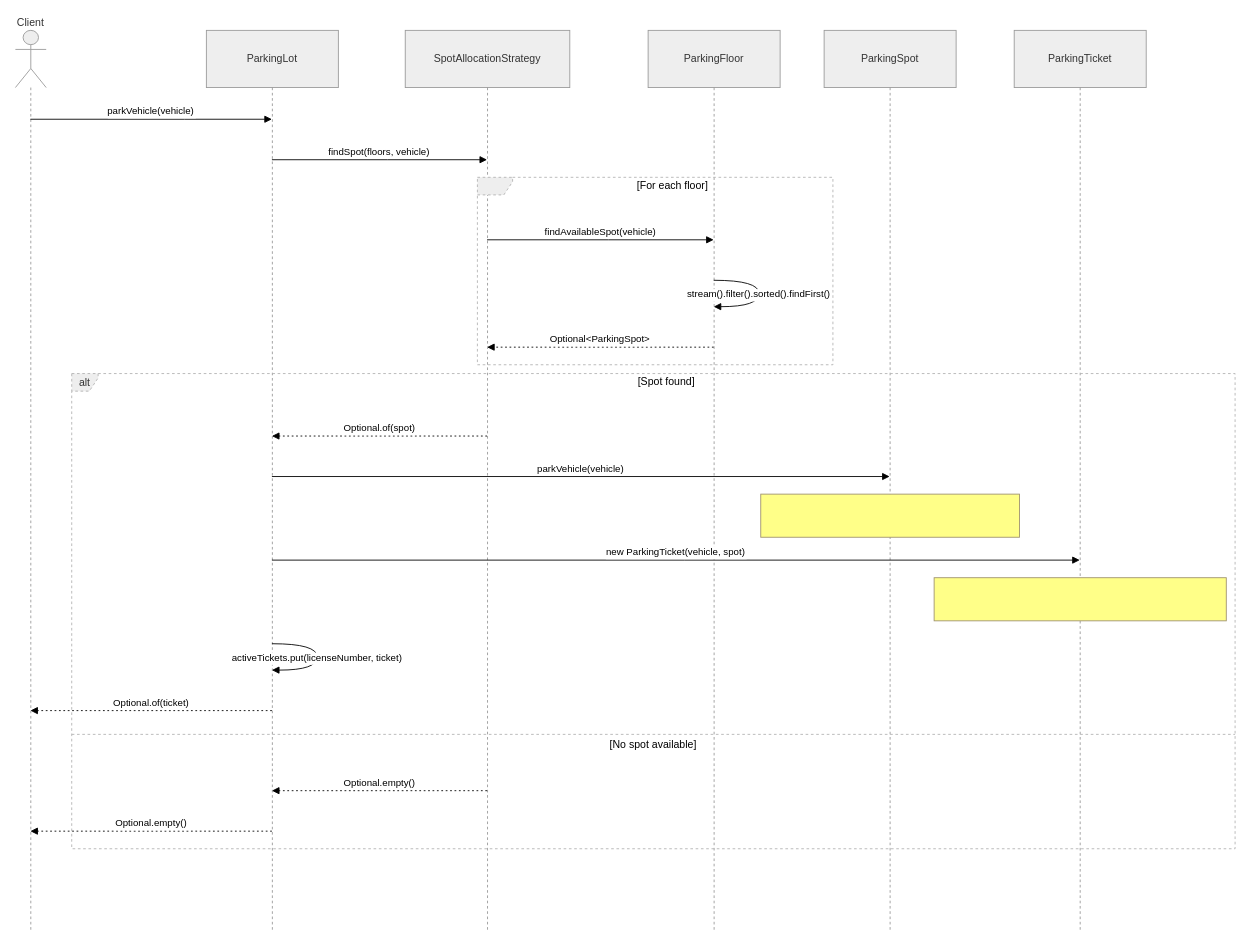
Some shapes in this 1250 by 948 pixel diagram are drawn without their labels. The shapes that lost their labels are listed below. From the top down, each one's box as (x1, y1, x2, y2) in pixels, then its label:
(477, 176, 833, 365): loop
(760, 493, 1019, 537): synchronized — sets isOccupied=true
(933, 577, 1226, 621): UUID generated, entryTimestamp recorded
